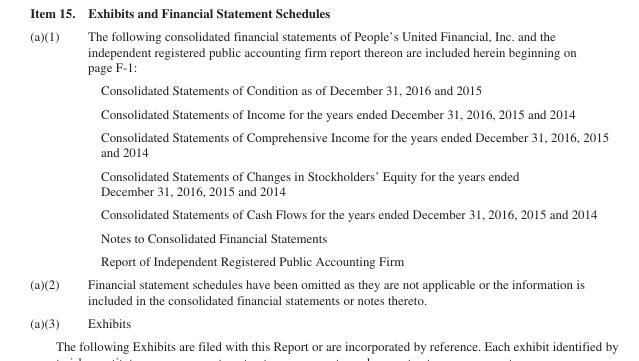table: (29, 28, 608, 329)
table column: (72, 28, 608, 329), (29, 28, 72, 329)
table row: (29, 28, 608, 78), (29, 124, 608, 163), (29, 163, 608, 202), (29, 272, 608, 310), (29, 248, 608, 272), (29, 78, 608, 101), (29, 101, 608, 124), (29, 202, 608, 225), (29, 225, 608, 248), (29, 310, 608, 329)
table spanning cell: (29, 28, 72, 272)
